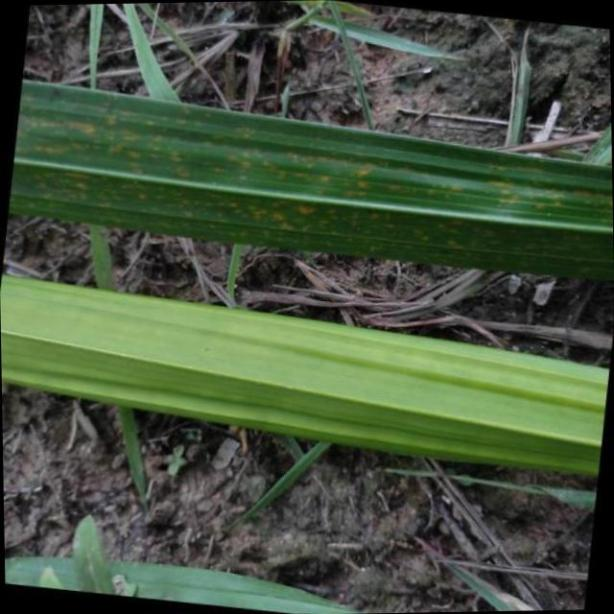nitrogen: (5, 66, 614, 276), (0, 275, 614, 475)
